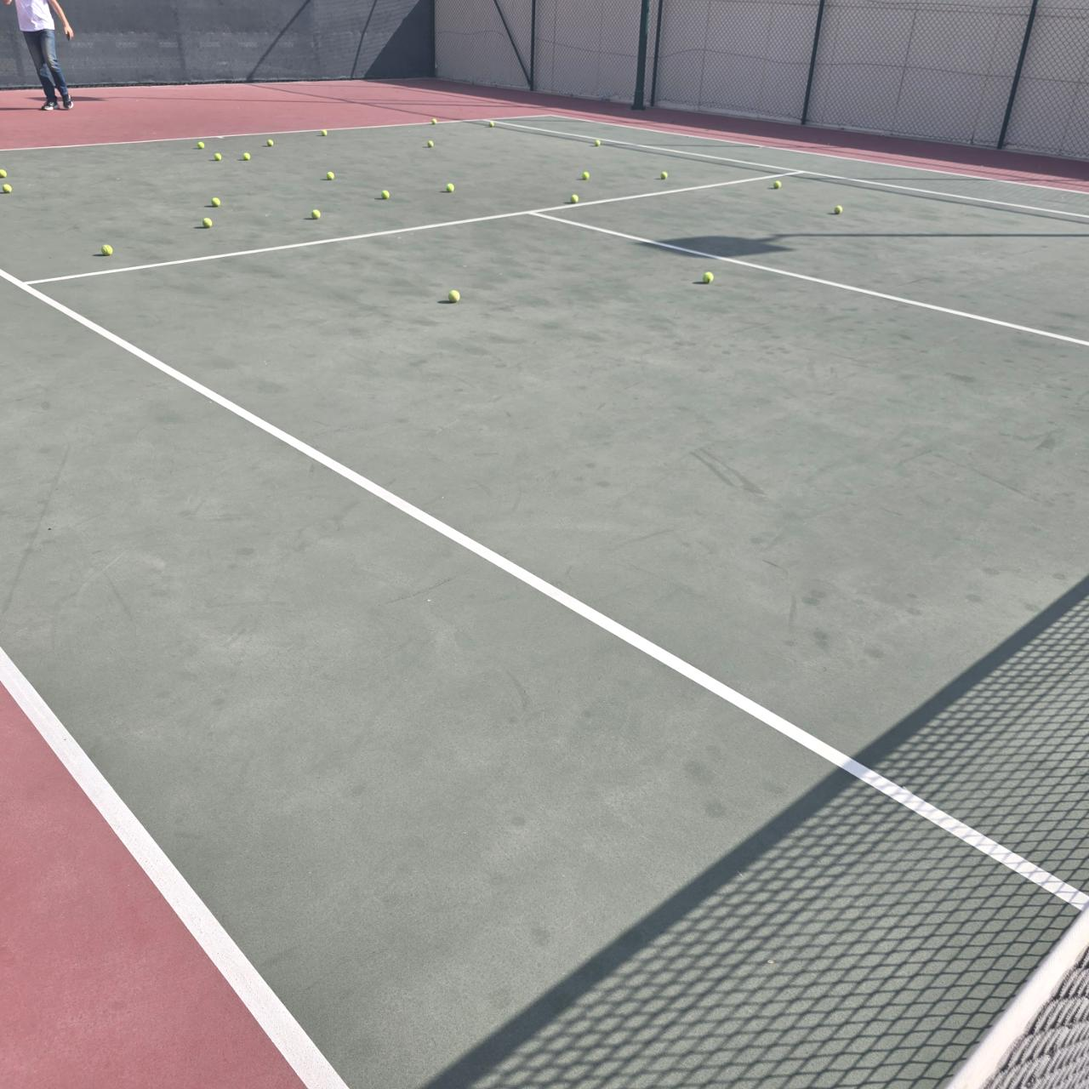tennis-ball: (447, 287, 460, 302), (701, 269, 714, 283), (101, 243, 113, 256), (2, 183, 13, 194), (202, 217, 212, 229), (211, 197, 221, 207), (311, 209, 320, 220), (834, 205, 843, 215), (570, 194, 579, 204), (381, 189, 389, 200), (326, 172, 335, 181), (446, 183, 455, 192), (243, 152, 251, 161), (774, 180, 782, 189), (660, 171, 668, 180), (582, 171, 590, 180), (0, 168, 7, 178), (214, 153, 222, 161), (197, 141, 205, 149), (267, 139, 274, 147), (427, 140, 434, 148), (321, 130, 328, 137), (431, 118, 438, 125), (489, 121, 495, 128), (595, 140, 601, 147)
